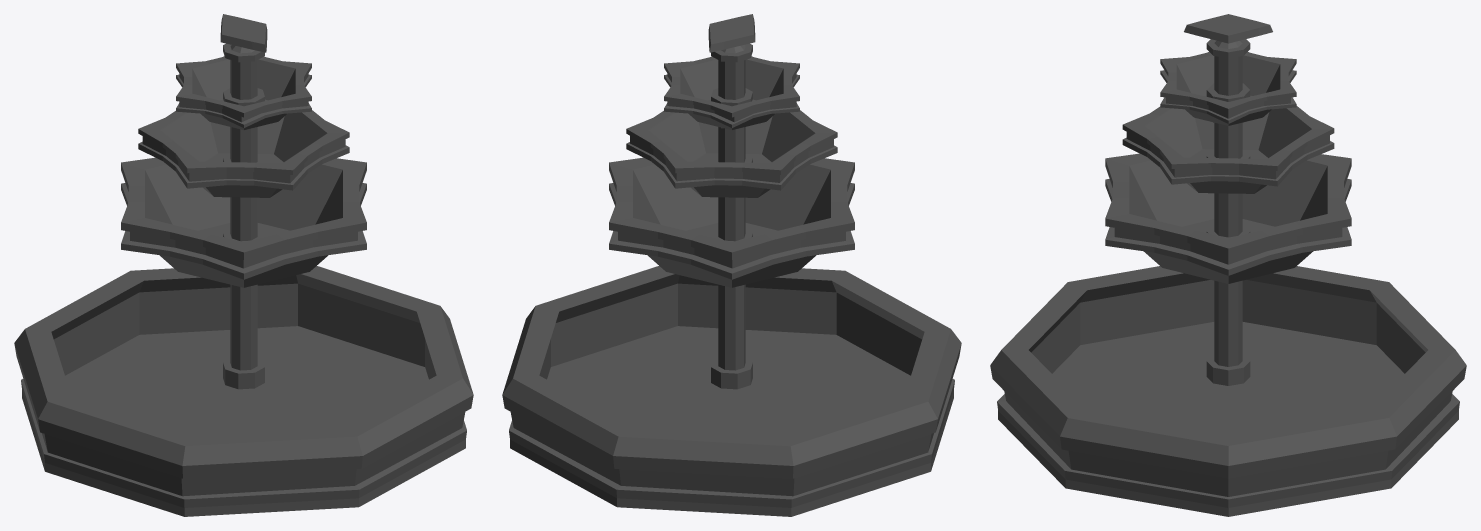
File: Fountain.fbx
3 renders of one model, left to right at view 1: azimuth 30°, elevation 25°; view 2: azimuth 150°, elevation 25°; view 3: azimuth 270°, elevation 25°, orthographic.
Parts seen in each view (by area): view 1: pCylinder11; view 2: pCylinder11; view 3: pCylinder11.
Part boxes in pixels (x1,y1,x2,y2): pCylinder11: (14, 14, 473, 516); pCylinder11: (502, 14, 961, 516); pCylinder11: (990, 14, 1466, 516).
Bounding box in the file's own units: 5.39 × 4.93 × 5.39.
Materials: 1 (1 with a texture image).
